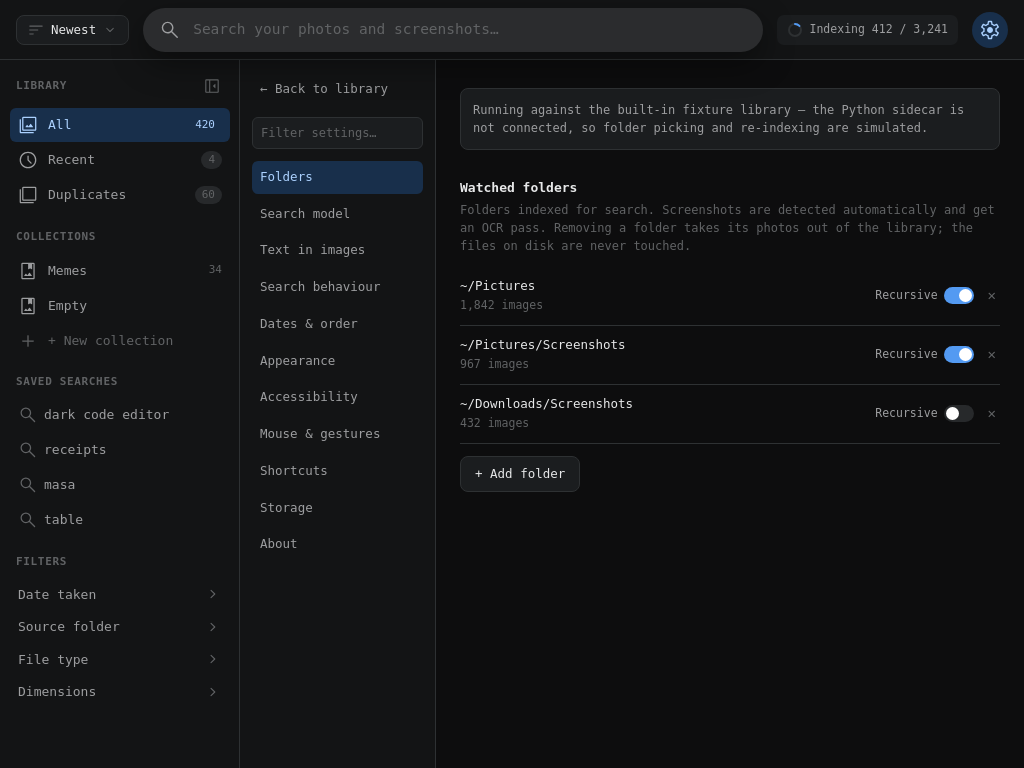
App › filters the settings nav and shows every section that matches
The image size is (1024, 768).
Type "contrast" into the field with placeholder "Filter settings…" at (338, 133), box 252,117 -> 423,149
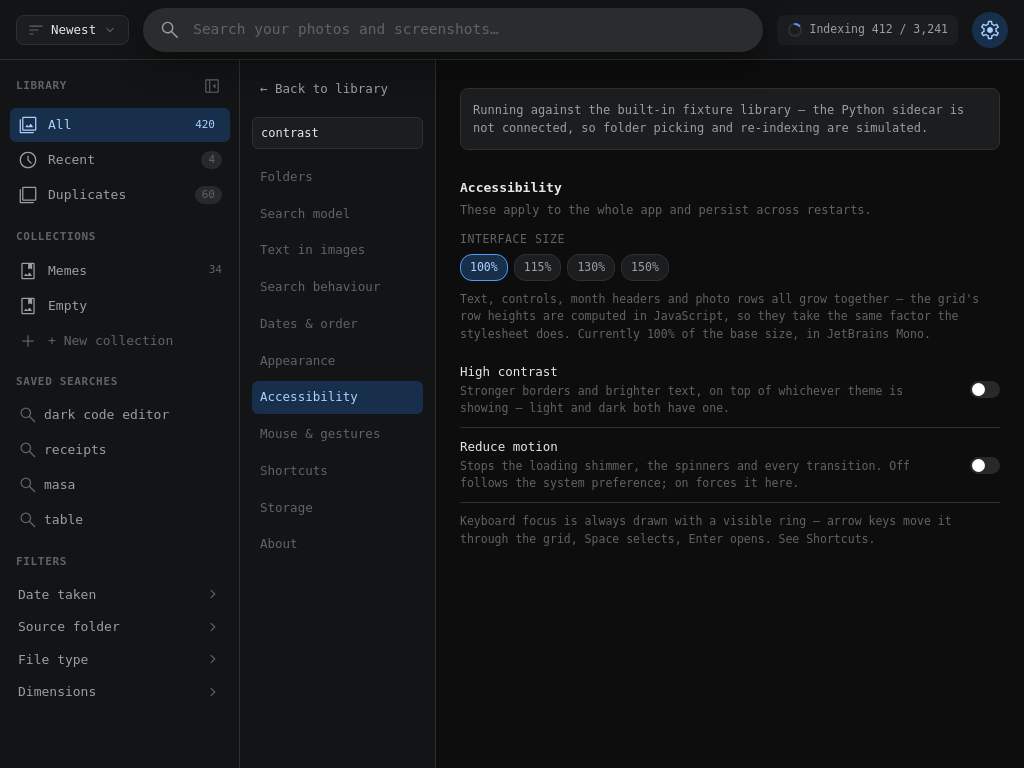
Now the text "High contrast" is shown, box 460,364 -> 558,379
Now the text "Watched folders" is gone
